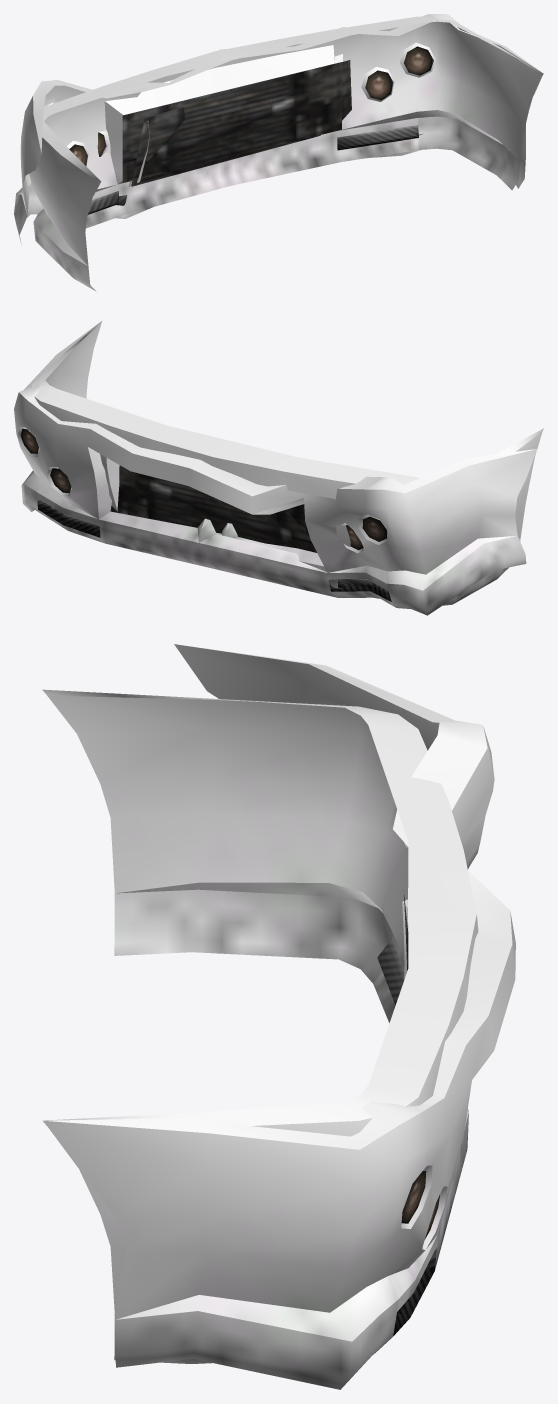
Rendered from fbmp_c_u.glb.
The picture shows the model from 3 angles, top to bottom: view 1: azimuth 30°, elevation 25°; view 2: azimuth 150°, elevation 25°; view 3: azimuth 270°, elevation 25°; orthographic projection. The views are drawn at different scales.
Parts seen in each view (by area): view 1: fbmp_c_u, fbmp_c_u_dam; view 2: fbmp_c_u_dam, fbmp_c_u; view 3: fbmp_c_u_dam, fbmp_c_u.
Boxes of the visible parts, x1,y1,x2,y2 form: fbmp_c_u: (29, 16, 543, 291); fbmp_c_u_dam: (14, 14, 543, 244); fbmp_c_u_dam: (14, 321, 537, 615); fbmp_c_u: (31, 321, 543, 605); fbmp_c_u_dam: (44, 644, 515, 1389); fbmp_c_u: (42, 689, 478, 1363).
Bounding box in the file's own units: 2.24 × 0.6816 × 0.9545.
Materials: 3 (3 with a texture image).
